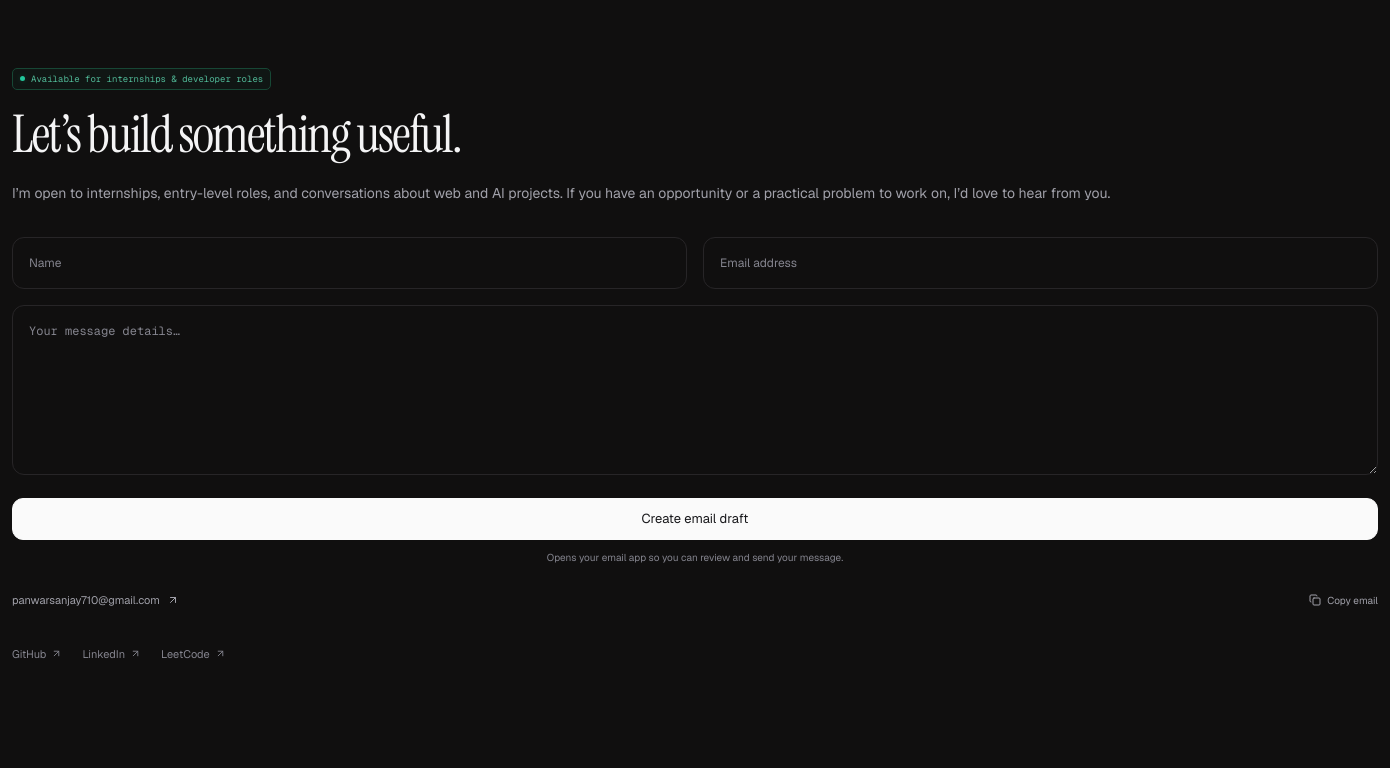
it: contact actions › offers manual copying when clipboard access fails without claiming success
Click the button "Copy email" at {"x": 1344, "y": 600}, box [1309,588,1378,613]
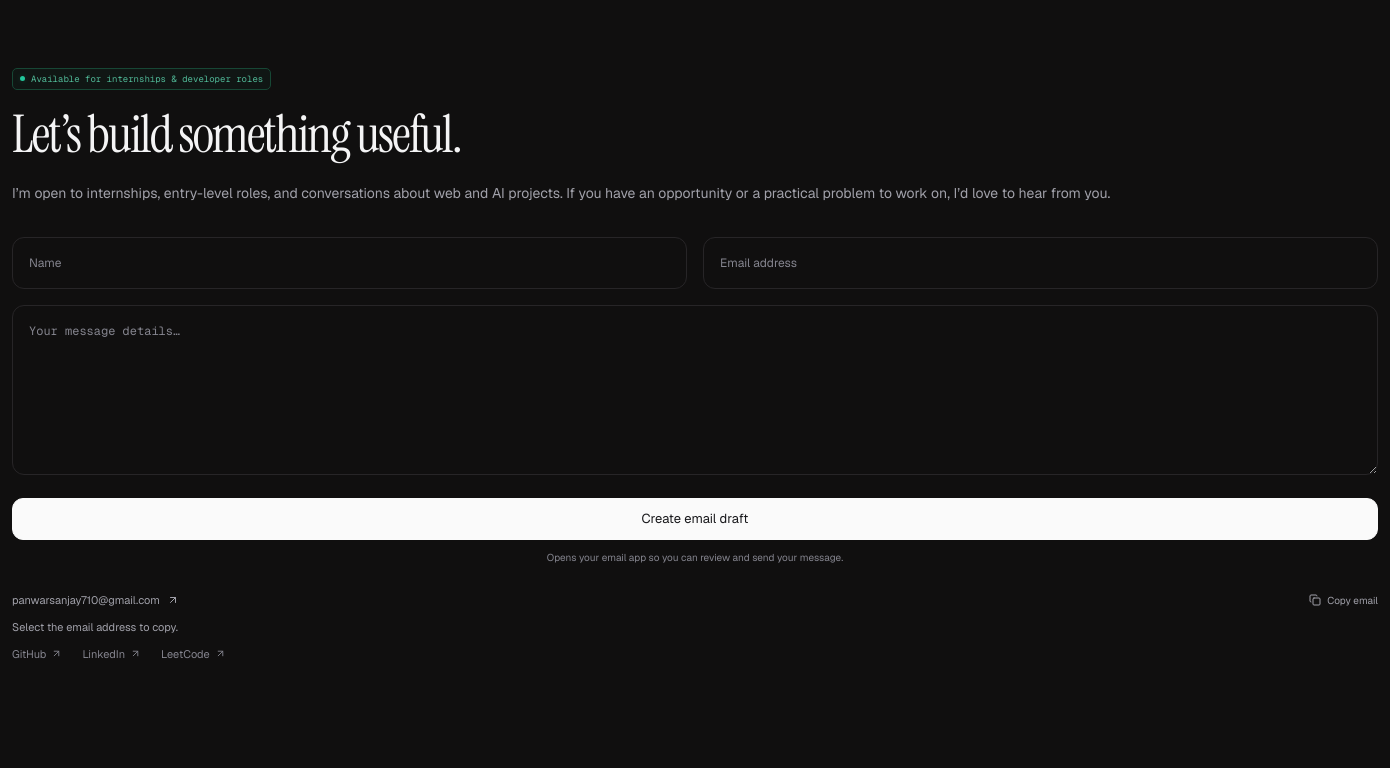
Check: the message reads "Select the email address to copy.", box [12,620,178,634]
